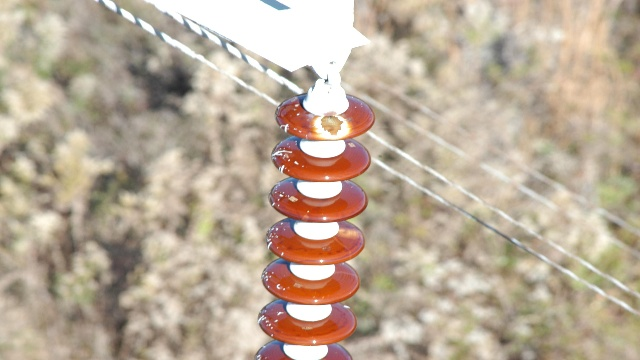insulator_unspecified: (255, 95, 376, 358)
pollution_flashover_local: (313, 113, 352, 137), (336, 228, 364, 239)
